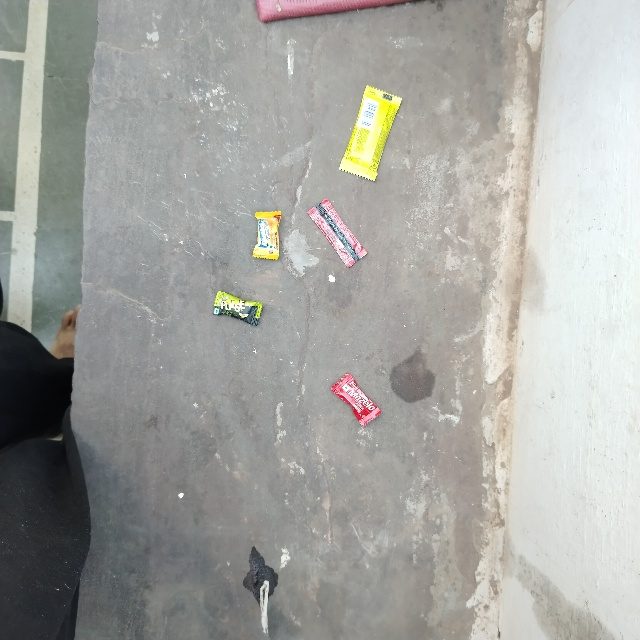Alpenlibe Creamfills: (250, 202, 285, 263)
Mazelo: (353, 370, 407, 404)
Nescafe Coffee: (333, 191, 412, 225)
Orbit: (370, 80, 405, 178)
Pulse: (207, 291, 266, 326)
